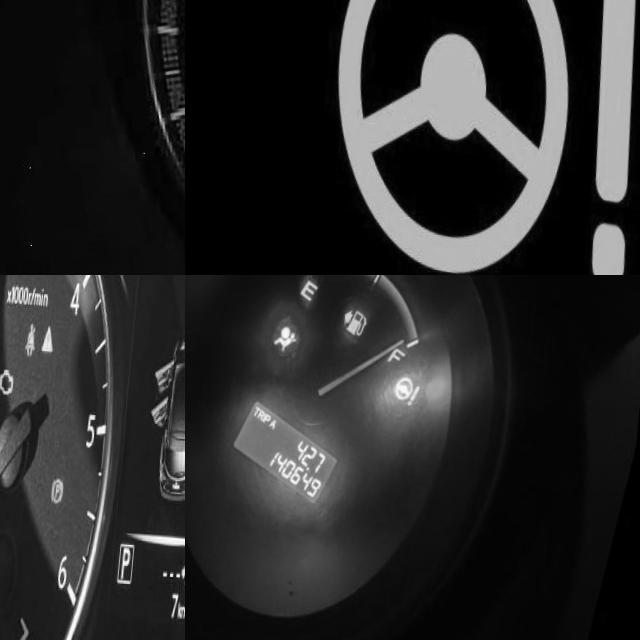Electronic Power Steering: (330, 0, 640, 275), (397, 366, 427, 401)
Seat Belt: (25, 318, 43, 357)
